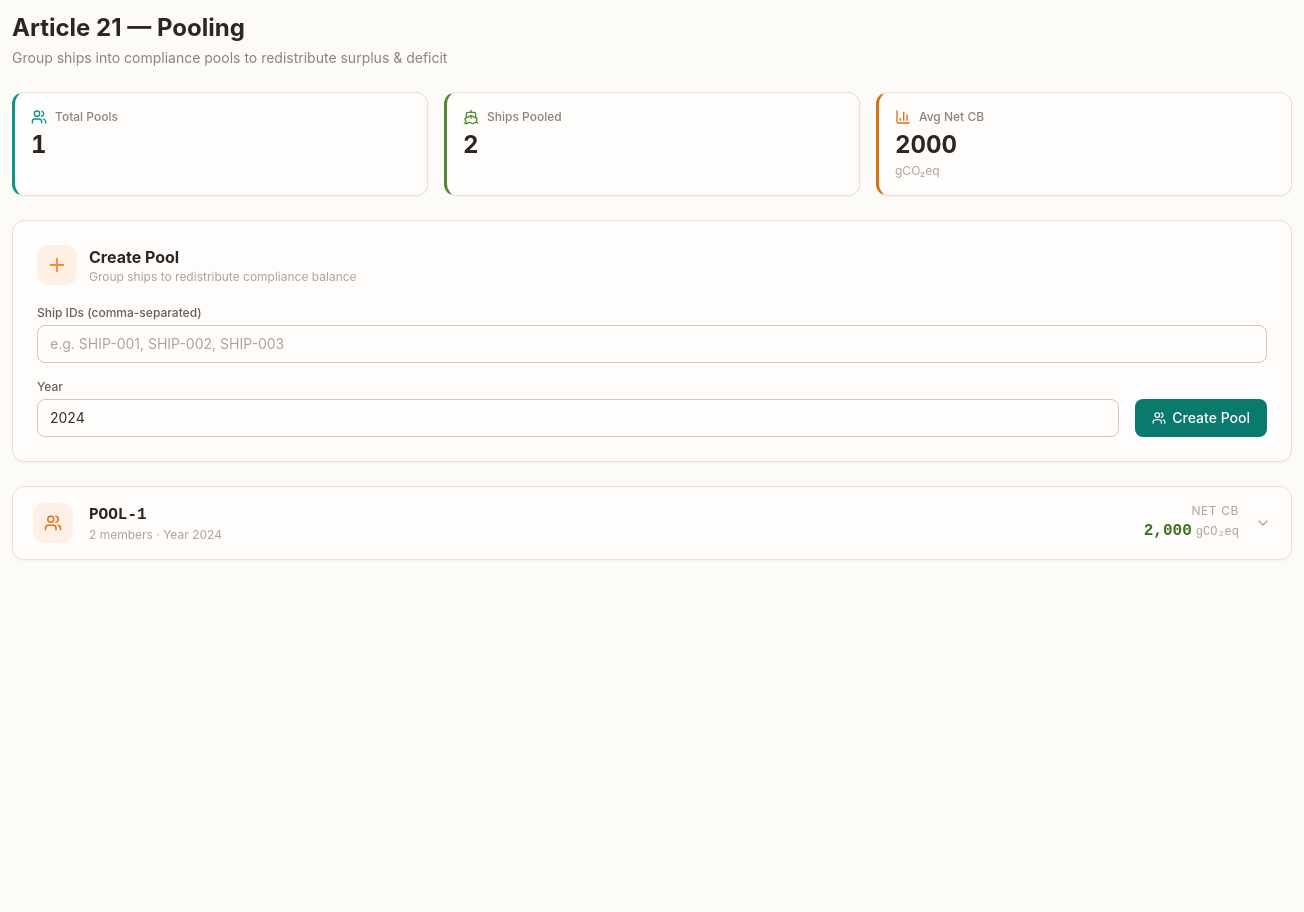
Scenario: PoolingTab › validates minimum 2 ship IDs
Expected: the text "POOL-1" is shown, [89,506,147,524]
Step 1. Type "ONLY-ONE" into the field with placeholder "e.g. SHIP-001, SHIP-002, SHIP-003" → (652, 344), box [37,325,1267,363]
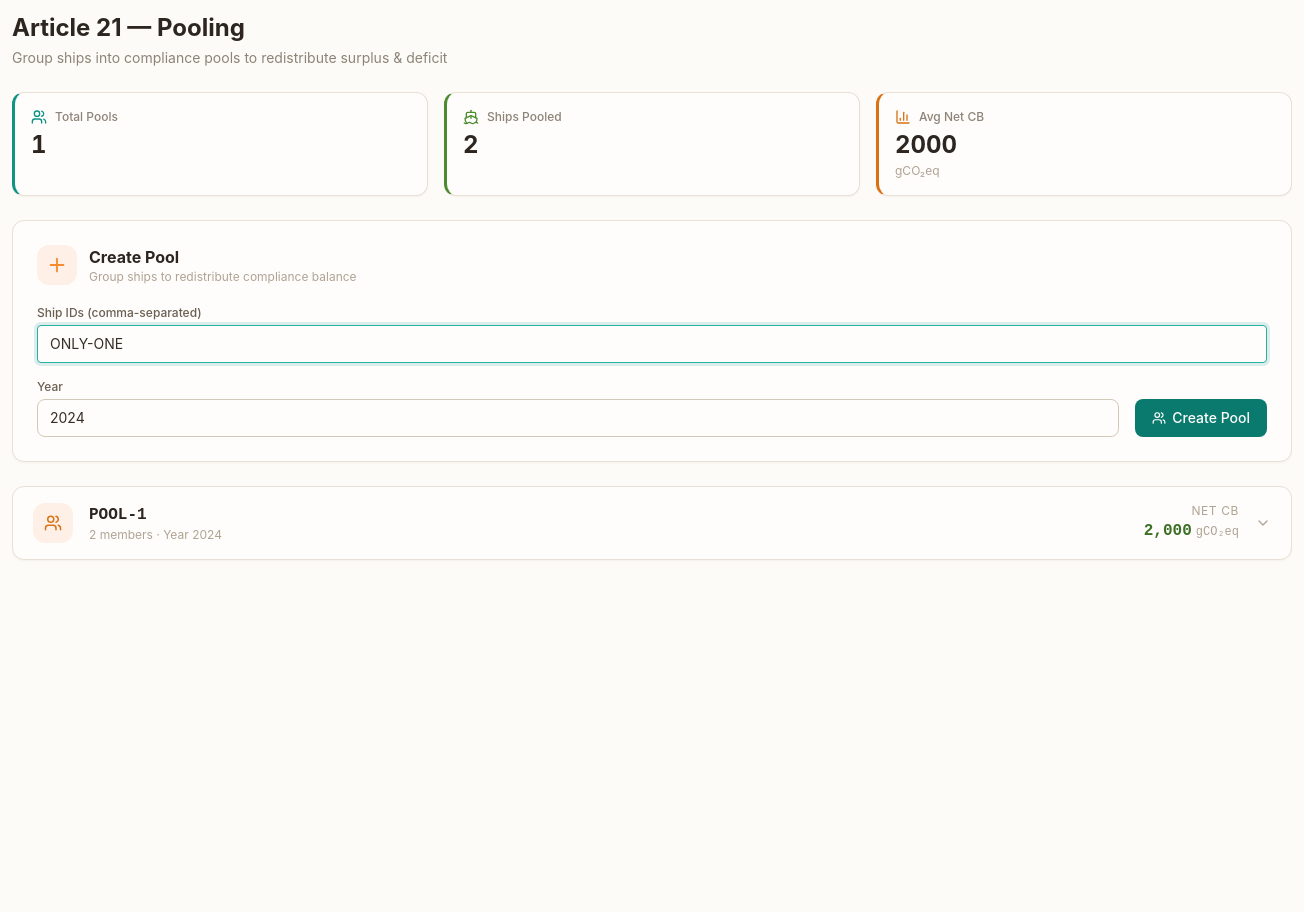
Step 2. Click the button "Create Pool" → (1201, 418), box [1135,399,1267,437]
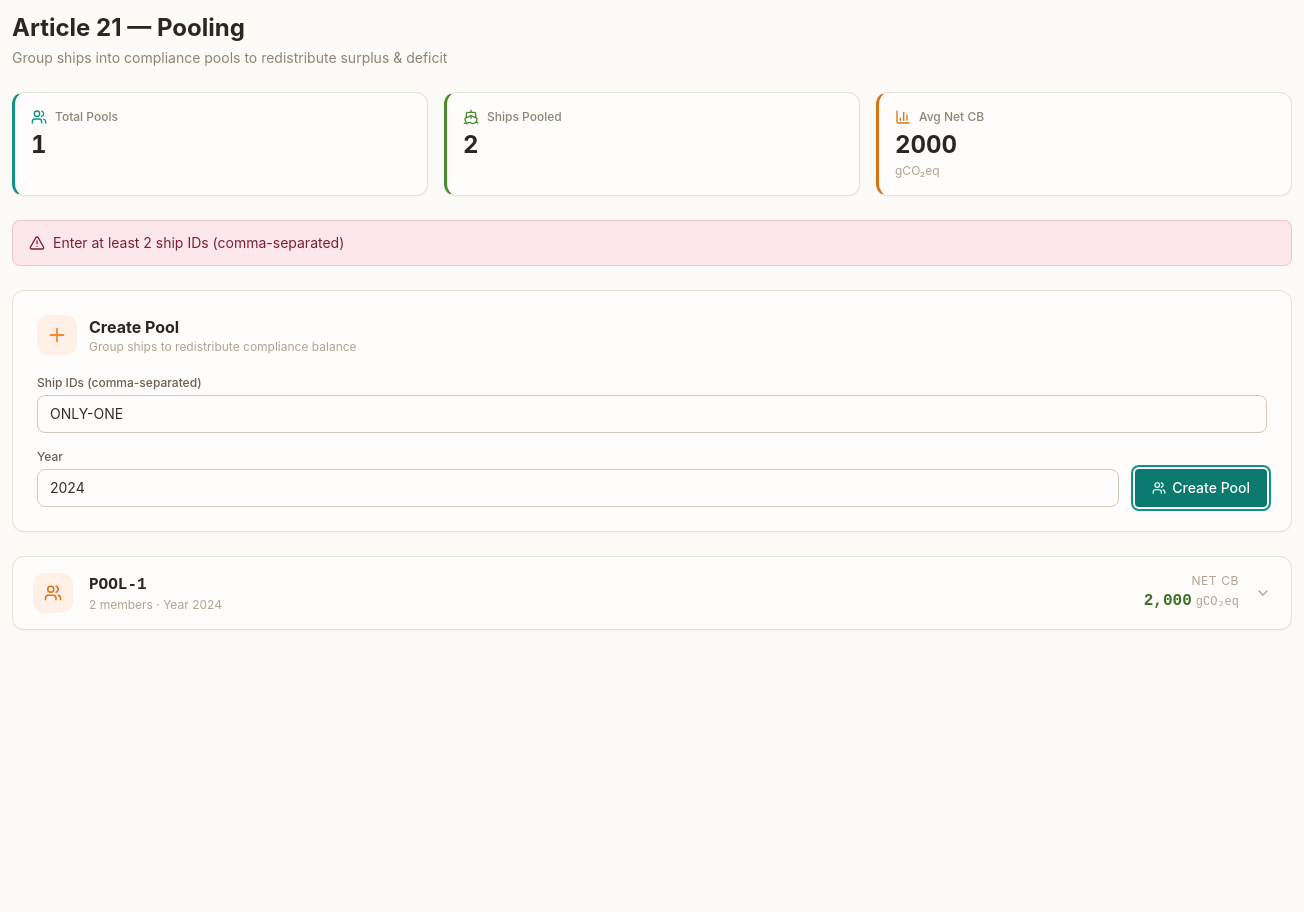
Expected: the text "Enter at least 2 ship IDs (comma-separated)" is shown, [53,233,344,253]
